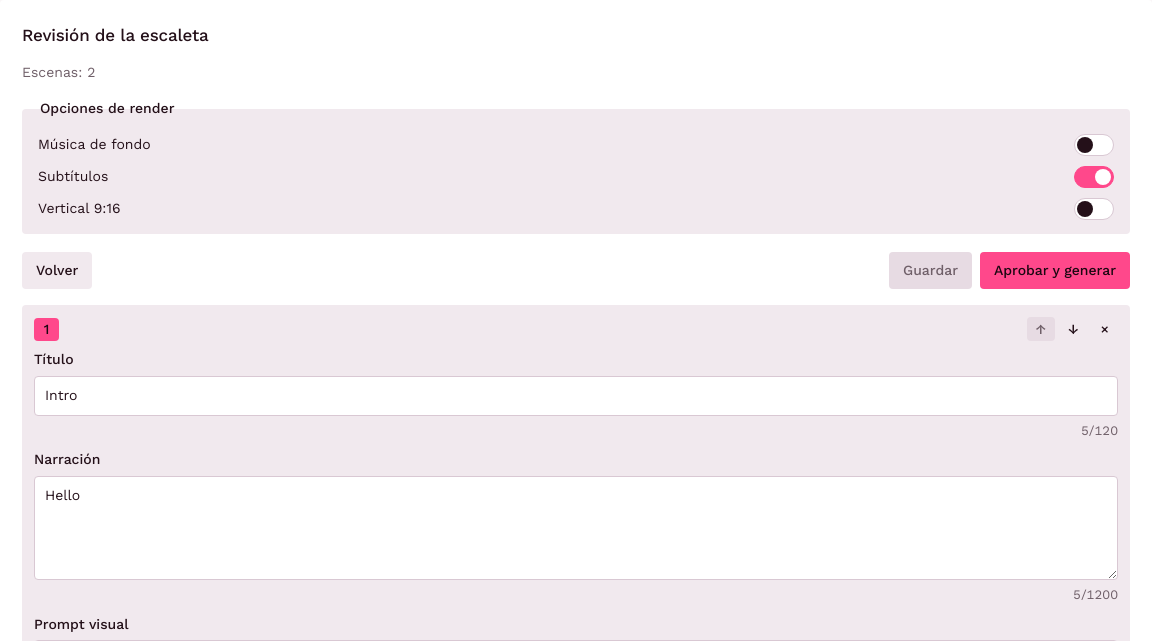
Test: ReviewPanel render options › music on with no library and an empty path: does not approve and shows the required message
Click the switch labelled "Música de fondo": (1094, 145) [1074, 134, 1114, 156]
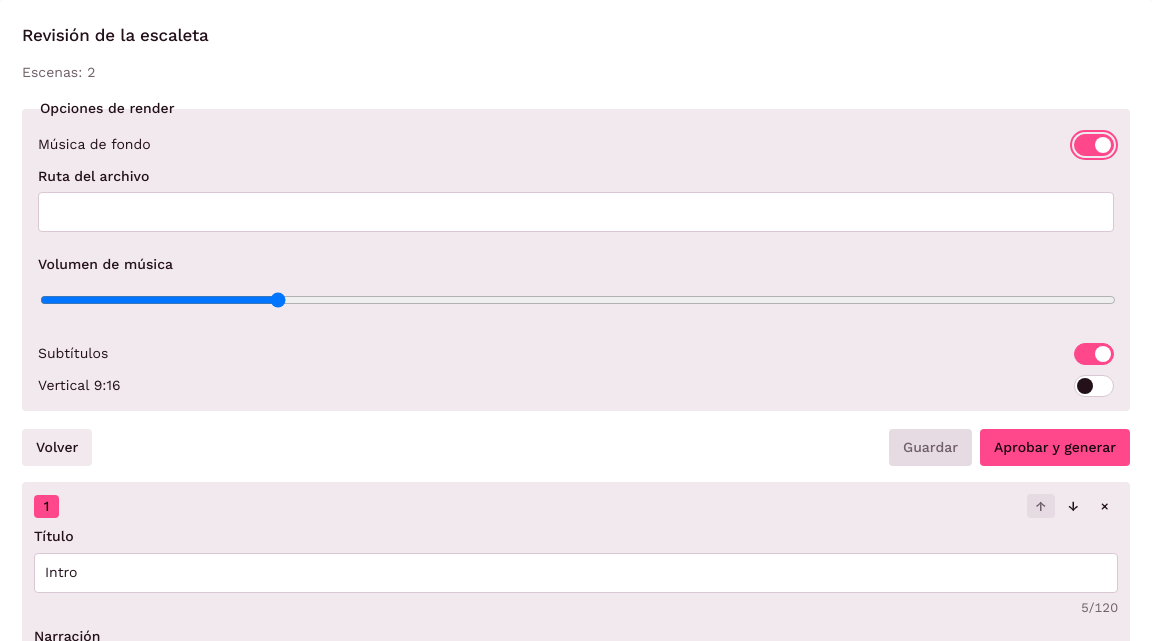
Click the button "Aprobar y generar": (1055, 448) [980, 429, 1130, 466]
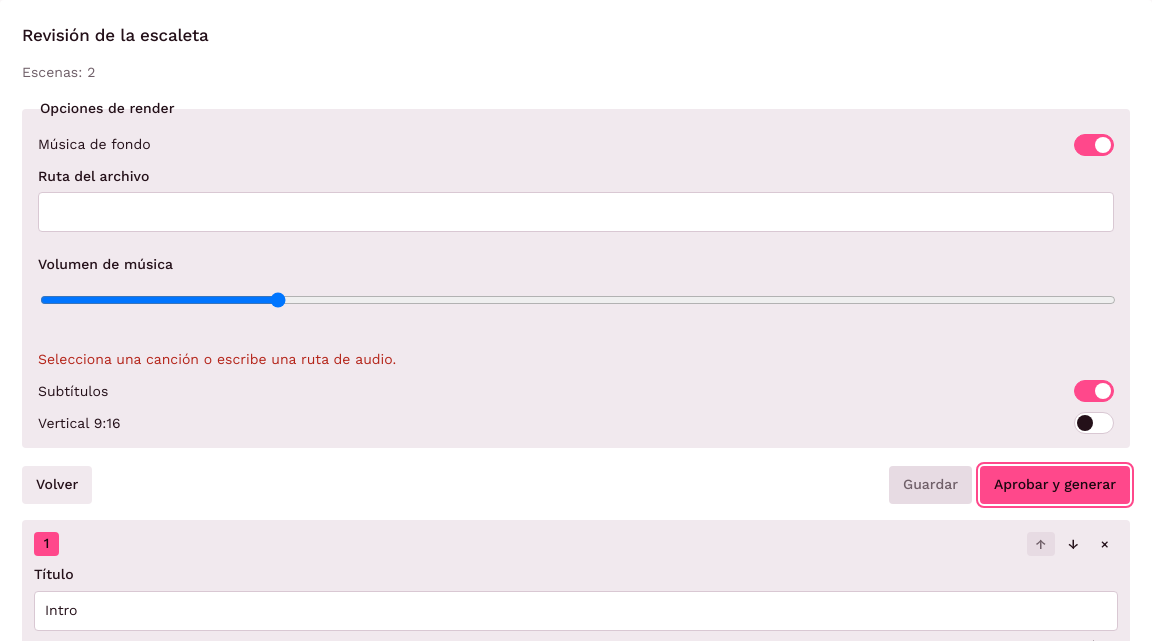
expect the text "Selecciona una canción o escribe una ruta de audio." is shown: met, box [38, 351, 396, 367]
